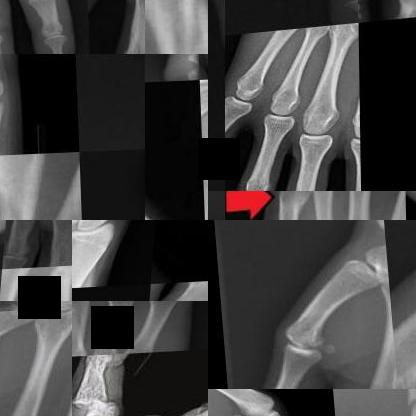fracture: (145, 0, 207, 54), (0, 155, 46, 219), (75, 384, 137, 415), (96, 309, 139, 343), (276, 191, 324, 219), (72, 301, 100, 337), (46, 267, 71, 296)
